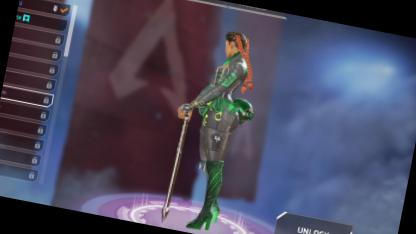Target: (188, 23, 269, 182)
